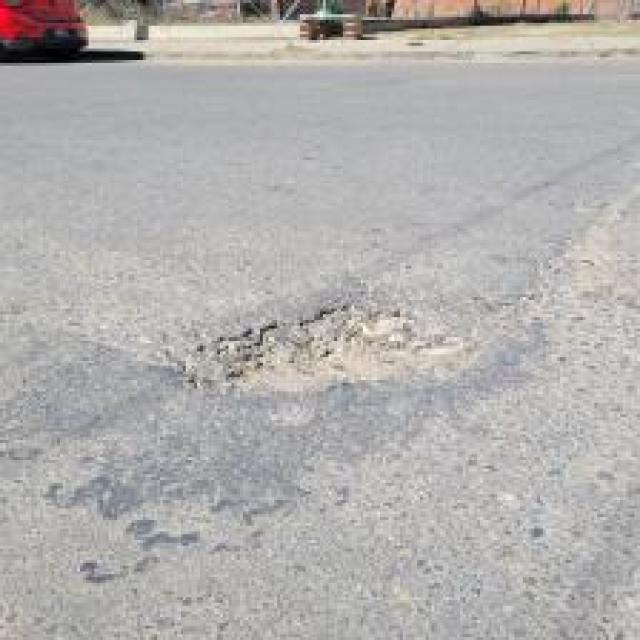BACHE: (177, 304, 472, 391)
